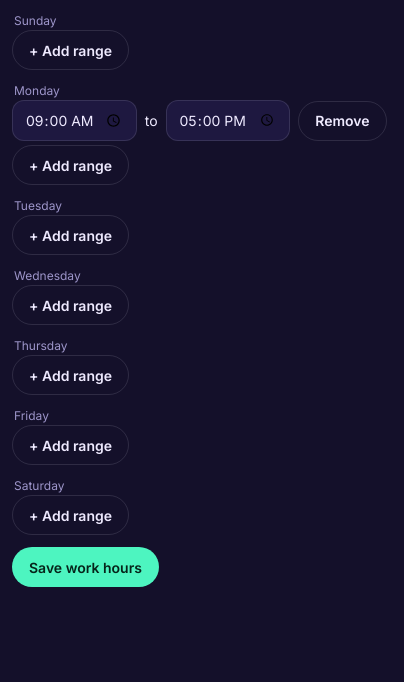
rejects an end that is not after the start, and overlapping ranges, without saving
This screenshot has width=404, height=682.
Replace the text in the time field named "Monday range 1 end" with "08:00" at (228, 120), box [166,100,290,141]
Click the button "Save work hours" at (85, 567), box [12,547,159,587]
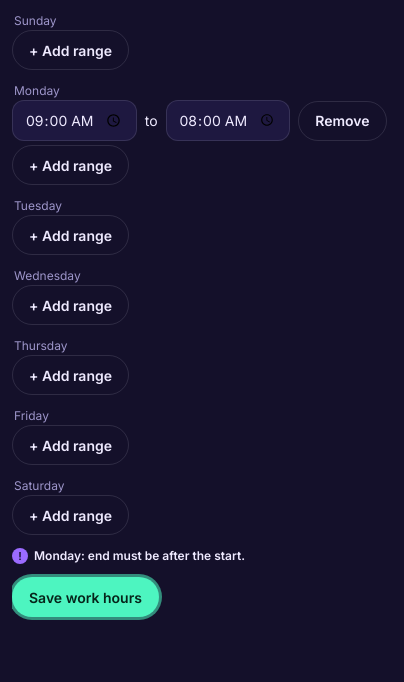
Result: the text "Monday: end must be after the start." is shown at [34,548,245,563]
Replace the text in the time field named "Monday range 1 end" with "17:00" at (228, 120), box [166,100,290,141]
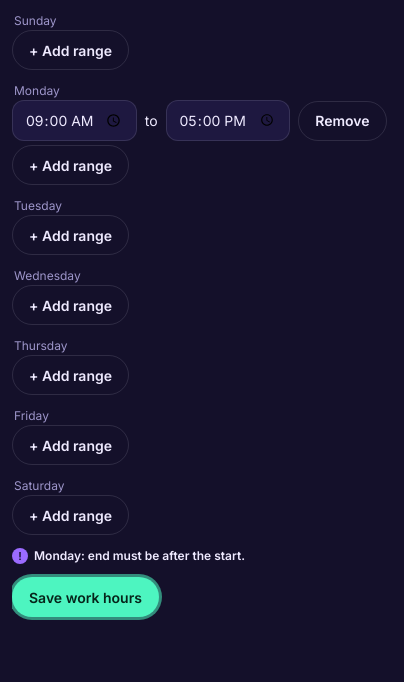
Click the button with aria-label "Add range to Monday" at (70, 165), box [12,145,129,185]
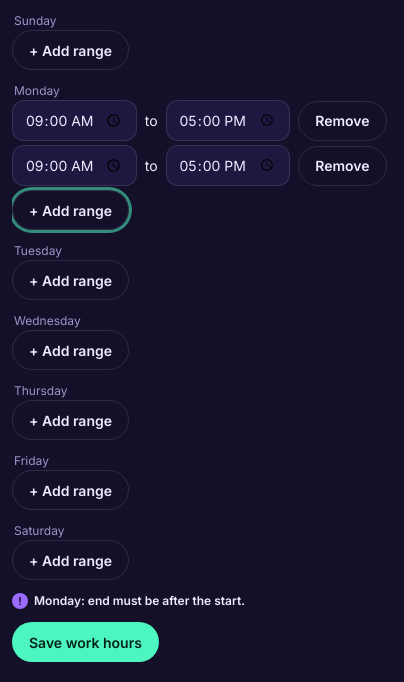
Replace the text in the time field named "Monday range 2 start" with "16:00" at (74, 166), box [12,145,137,186]
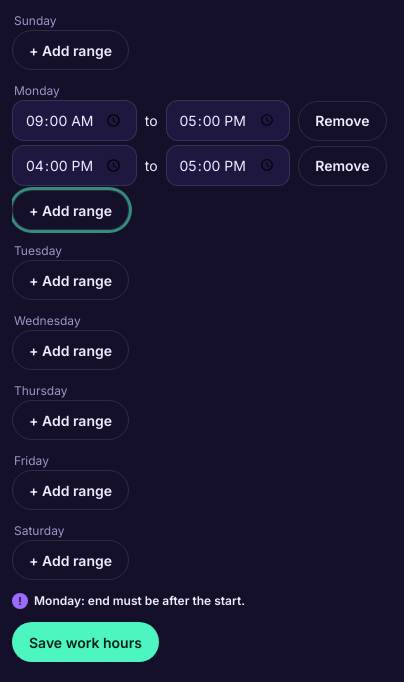
Replace the text in the time field named "Monday range 2 end" with "18:00" at (228, 166), box [166,145,290,186]
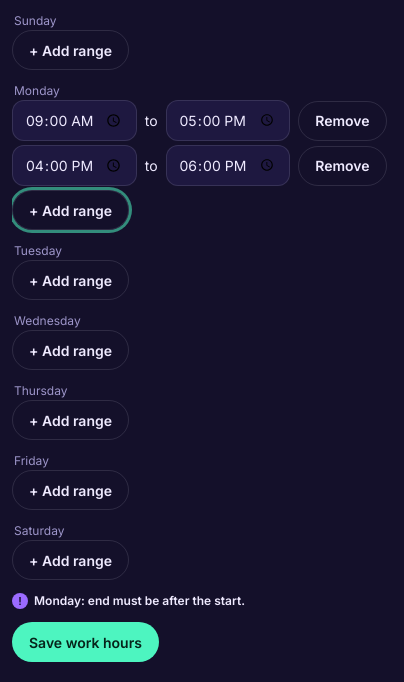
Click the button "Save work hours" at (85, 642), box [12,622,159,662]
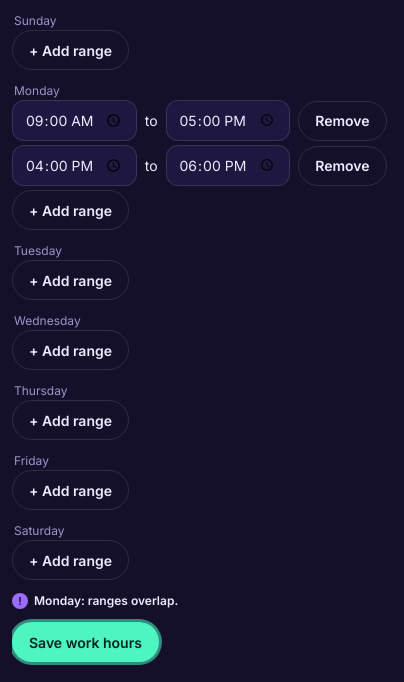
Result: the text "Monday: ranges overlap." is shown at [34,593,178,608]
